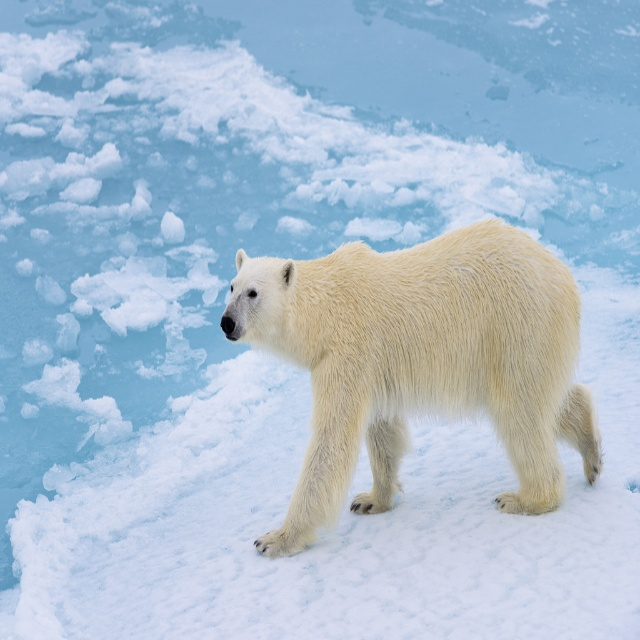Polar bear: (219, 213, 602, 557)
